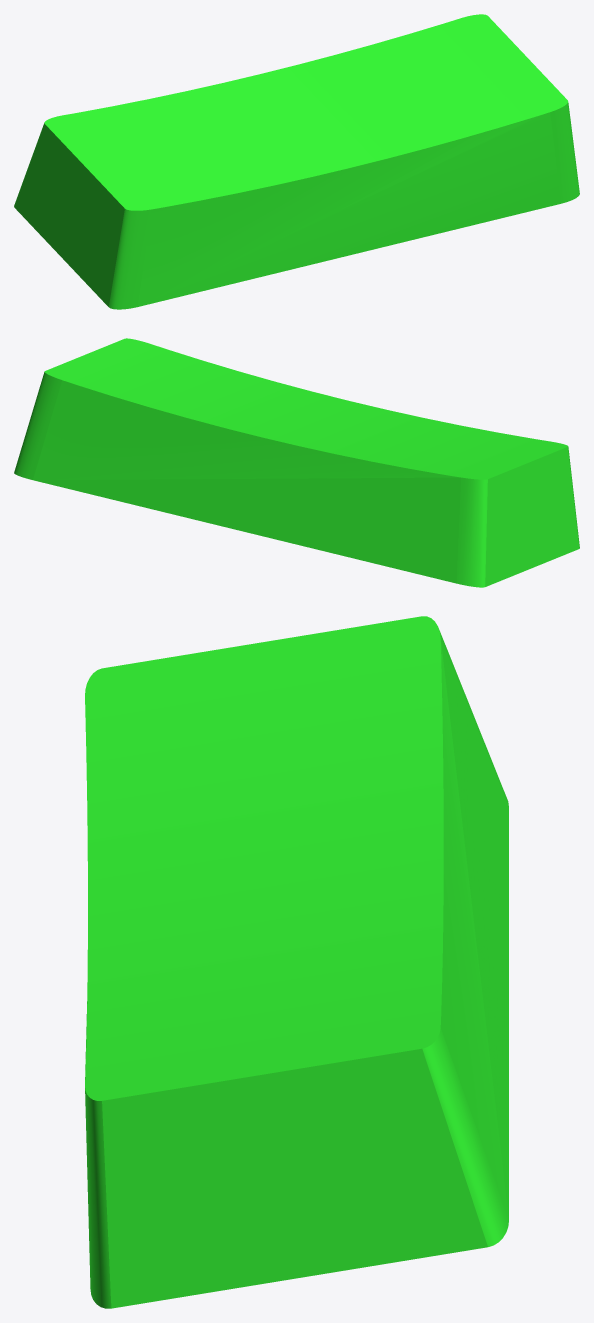
The model's file is original-46.obj.
3 views of the same model, one above another, from view 1: azimuth 30°, elevation 25°; view 2: azimuth 150°, elevation 25°; view 3: azimuth 270°, elevation 25° (orthographic). The views are drawn at different scales.
Parts seen in each view (by area): view 1: 组件_11_1/组件_11/mesh28/mesh28-geometry#mesh28-geometry; view 2: 组件_11_1/组件_11/mesh28/mesh28-geometry#mesh28-geometry; view 3: 组件_11_1/组件_11/mesh28/mesh28-geometry#mesh28-geometry.
Part boxes in pixels (x1=…): 组件_11_1/组件_11/mesh28/mesh28-geometry#mesh28-geometry: x1=14, y1=14, x2=579, y2=309; 组件_11_1/组件_11/mesh28/mesh28-geometry#mesh28-geometry: x1=14, y1=338, x2=579, y2=587; 组件_11_1/组件_11/mesh28/mesh28-geometry#mesh28-geometry: x1=85, y1=616, x2=508, y2=1308.
Bounding box in the file's own units: 0.192 × 0.0489 × 0.0749.
